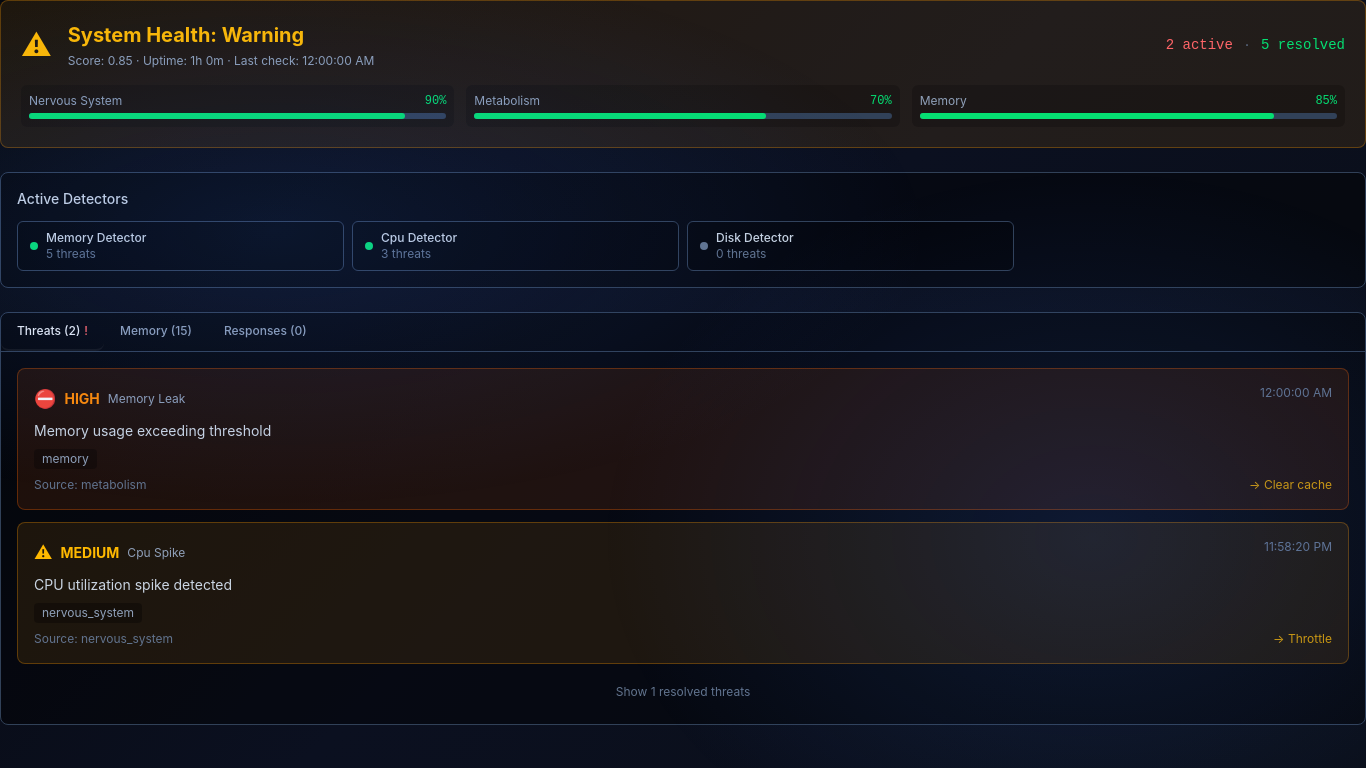
Test: ImmuneSystemPanel › shows no responses message when empty
The image size is (1366, 768).
Click the button "Responses (0)" at (265, 332), box 208,313 -> 323,351
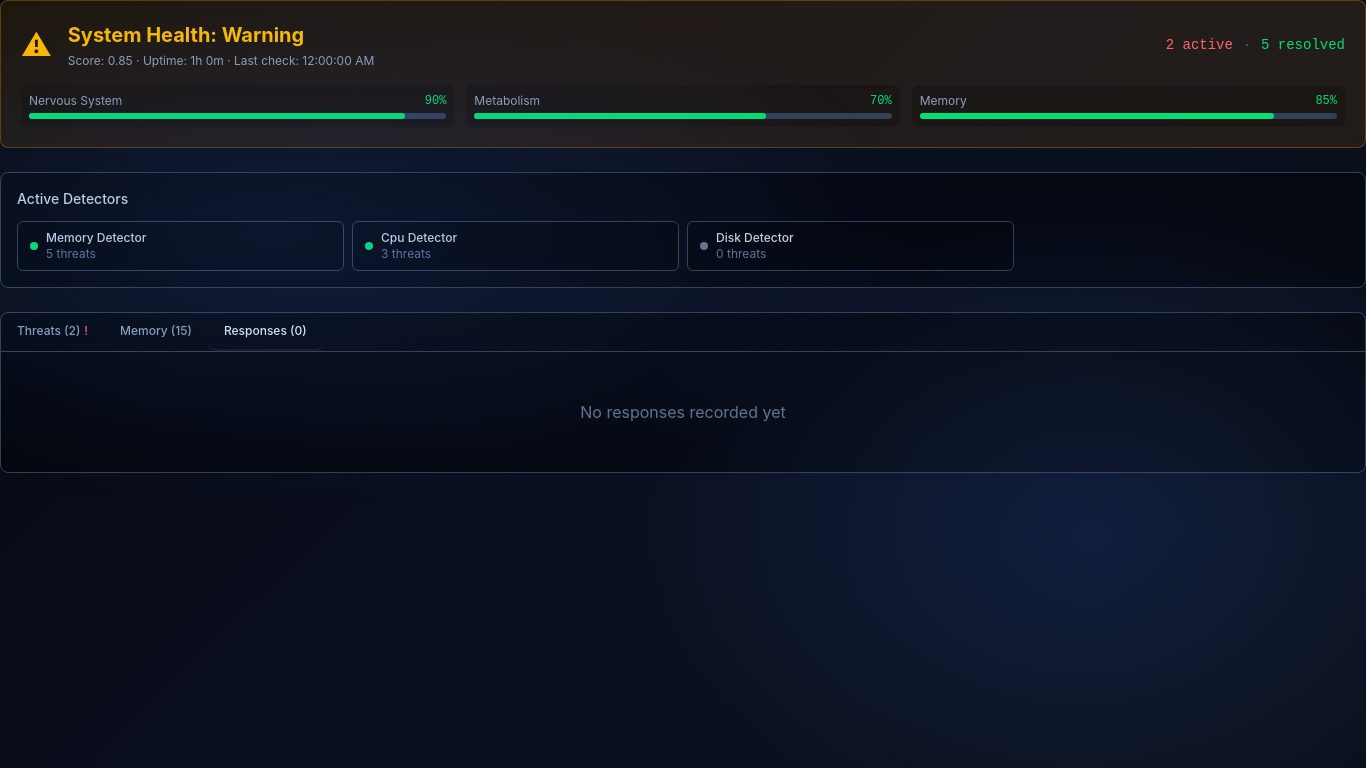
Expected: the text "No responses recorded yet" is shown, 580,402 -> 786,422
